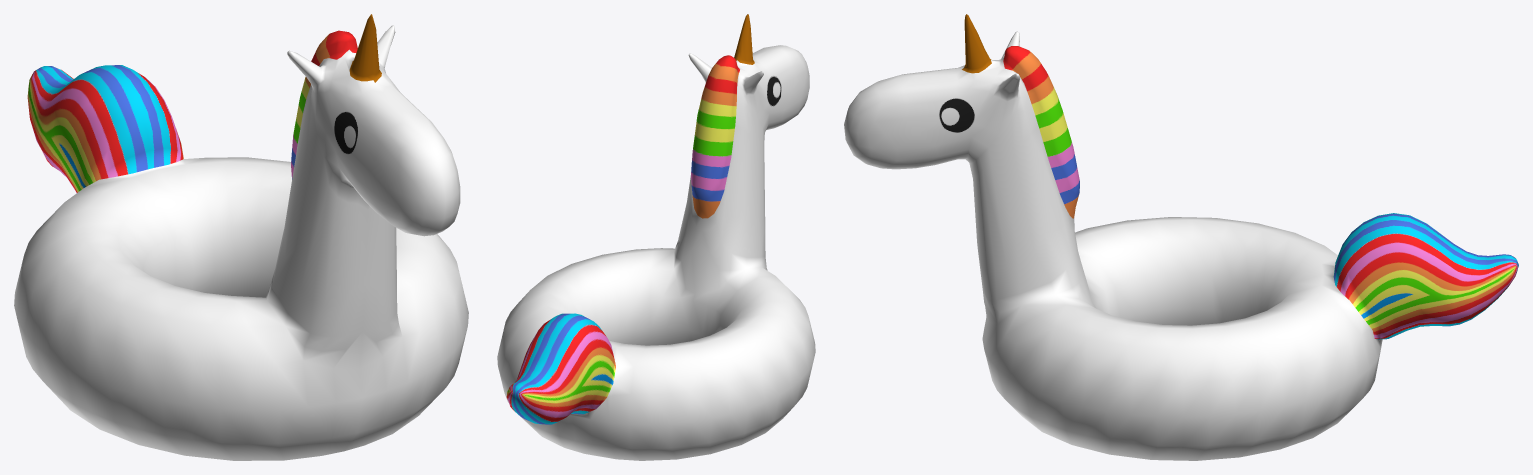
The picture shows the model from 3 angles, left to right: view 1: azimuth 30°, elevation 25°; view 2: azimuth 150°, elevation 25°; view 3: azimuth 270°, elevation 25°; orthographic projection. The views are drawn at different scales.
Parts seen in each view (by area): view 1: Torus_004; view 2: Torus_004; view 3: Torus_004.
Part boxes in pixels (x1,y1,x2,y2): Torus_004: [14, 14, 468, 460]; Torus_004: [497, 14, 815, 460]; Torus_004: [844, 14, 1518, 460].
Bounding box in the file's own units: 288 × 334 × 524.
1 material, 1 textured.
